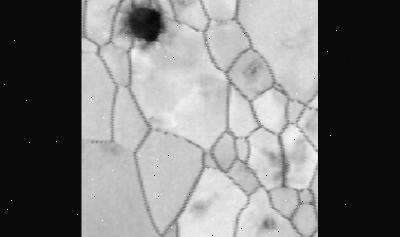good_void: (118, 0, 171, 48), (183, 181, 224, 224), (258, 142, 294, 183), (238, 53, 266, 83), (255, 206, 280, 234), (176, 0, 193, 12)
